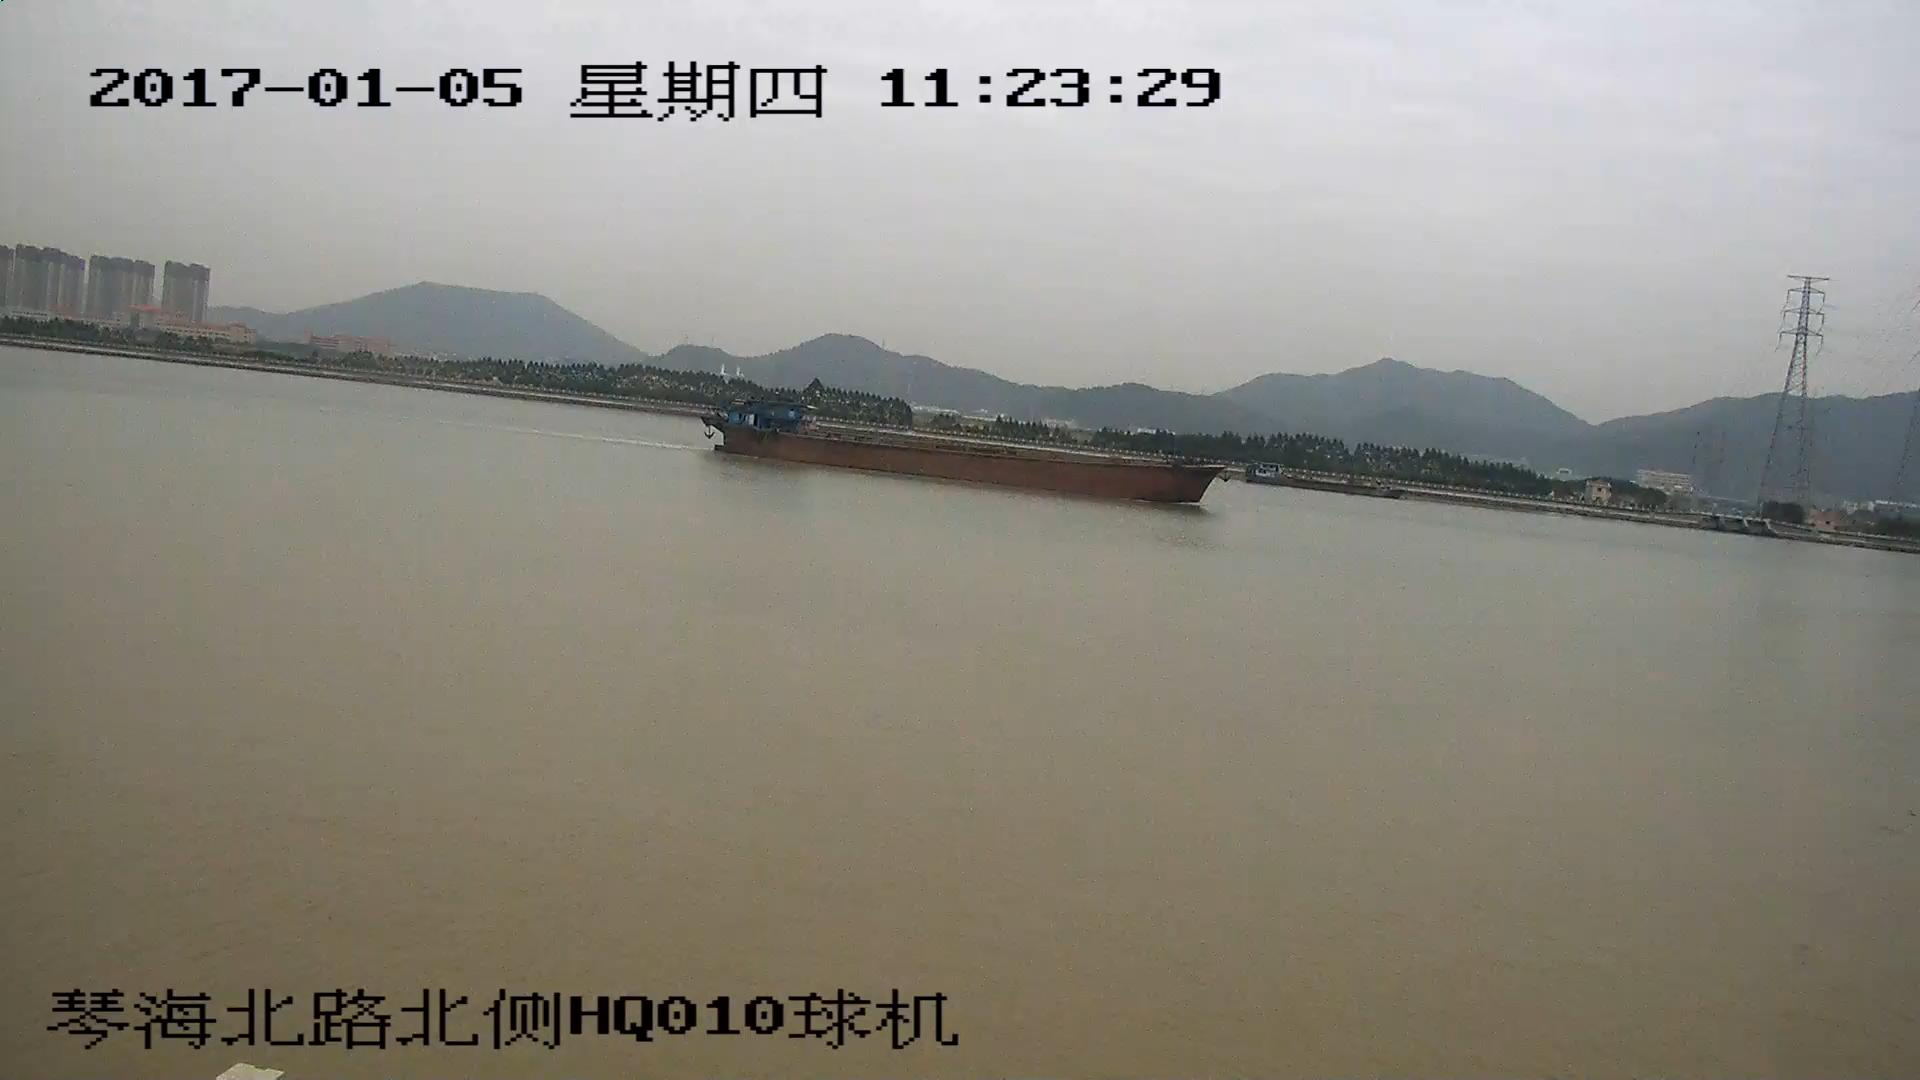bulk cargo carrier: (709, 394, 1228, 507)
